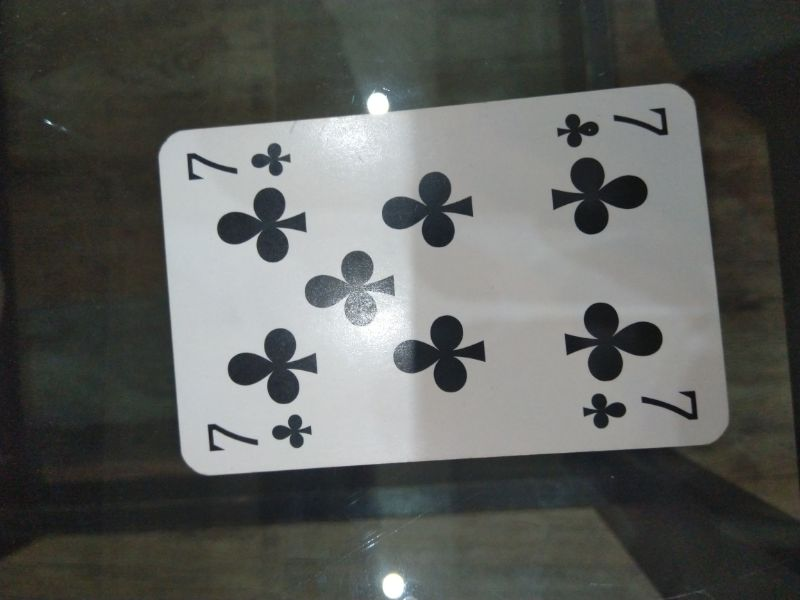7c: (551, 102, 677, 151), (575, 385, 706, 431), (203, 411, 318, 458), (184, 140, 299, 185)
